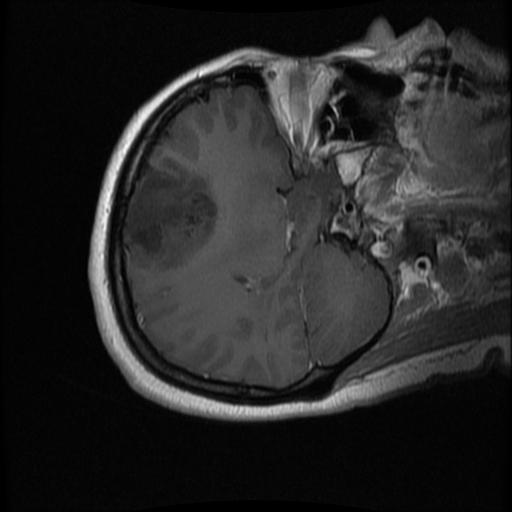glioma: (124, 171, 217, 271)
